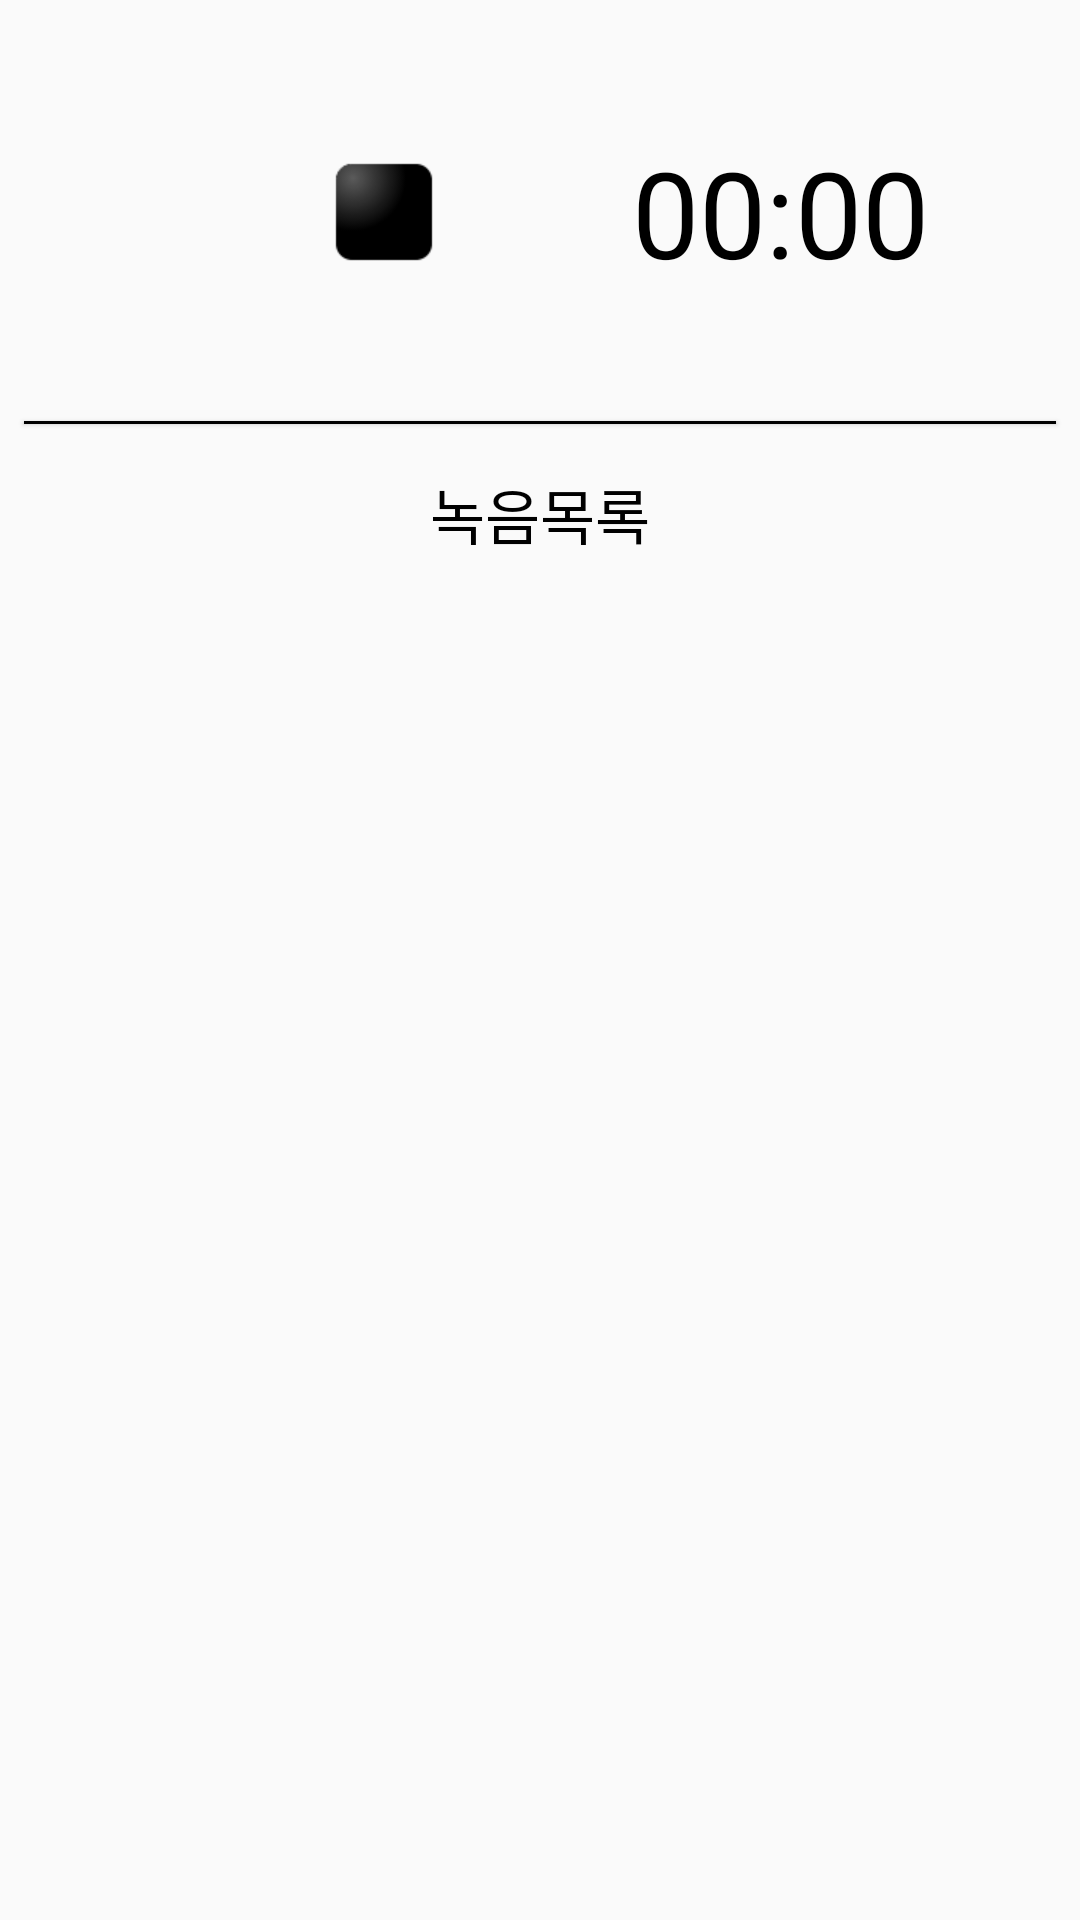

Icon bounding boxes for this 1080px×1920px phone screenshot, format (x1, y1, x2, y2):
stop: (335, 163, 433, 261)
